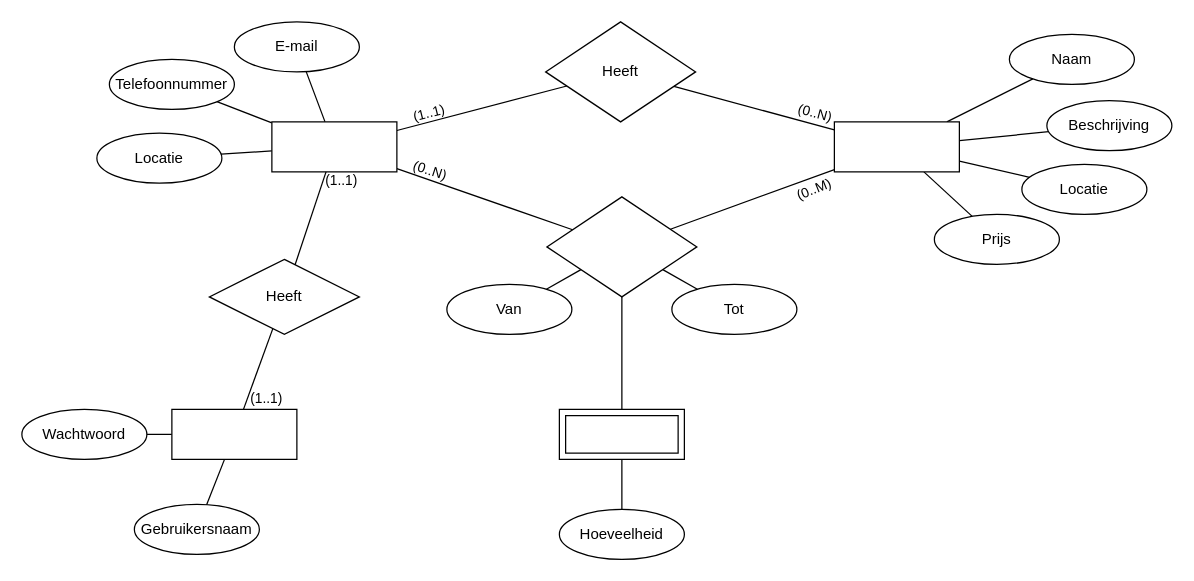
Image size: 1194x581. Some labels were removed from this diagram. Here are the shapes that lost their labels. From the top down, the centre of each, then its label:
At pixel 334 146: "Profiel".
At pixel 896 146: "Object".
At pixel 621 246: "Reserveert".
At pixel 234 433: "Gebruiker".
At pixel 621 433: "Boete".
